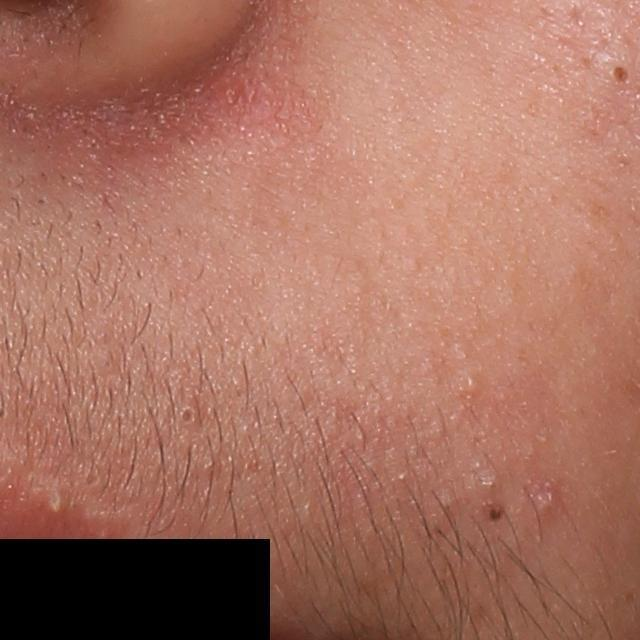comedo: (169, 398, 198, 426), (531, 485, 558, 513), (476, 473, 507, 493), (461, 369, 485, 394)
